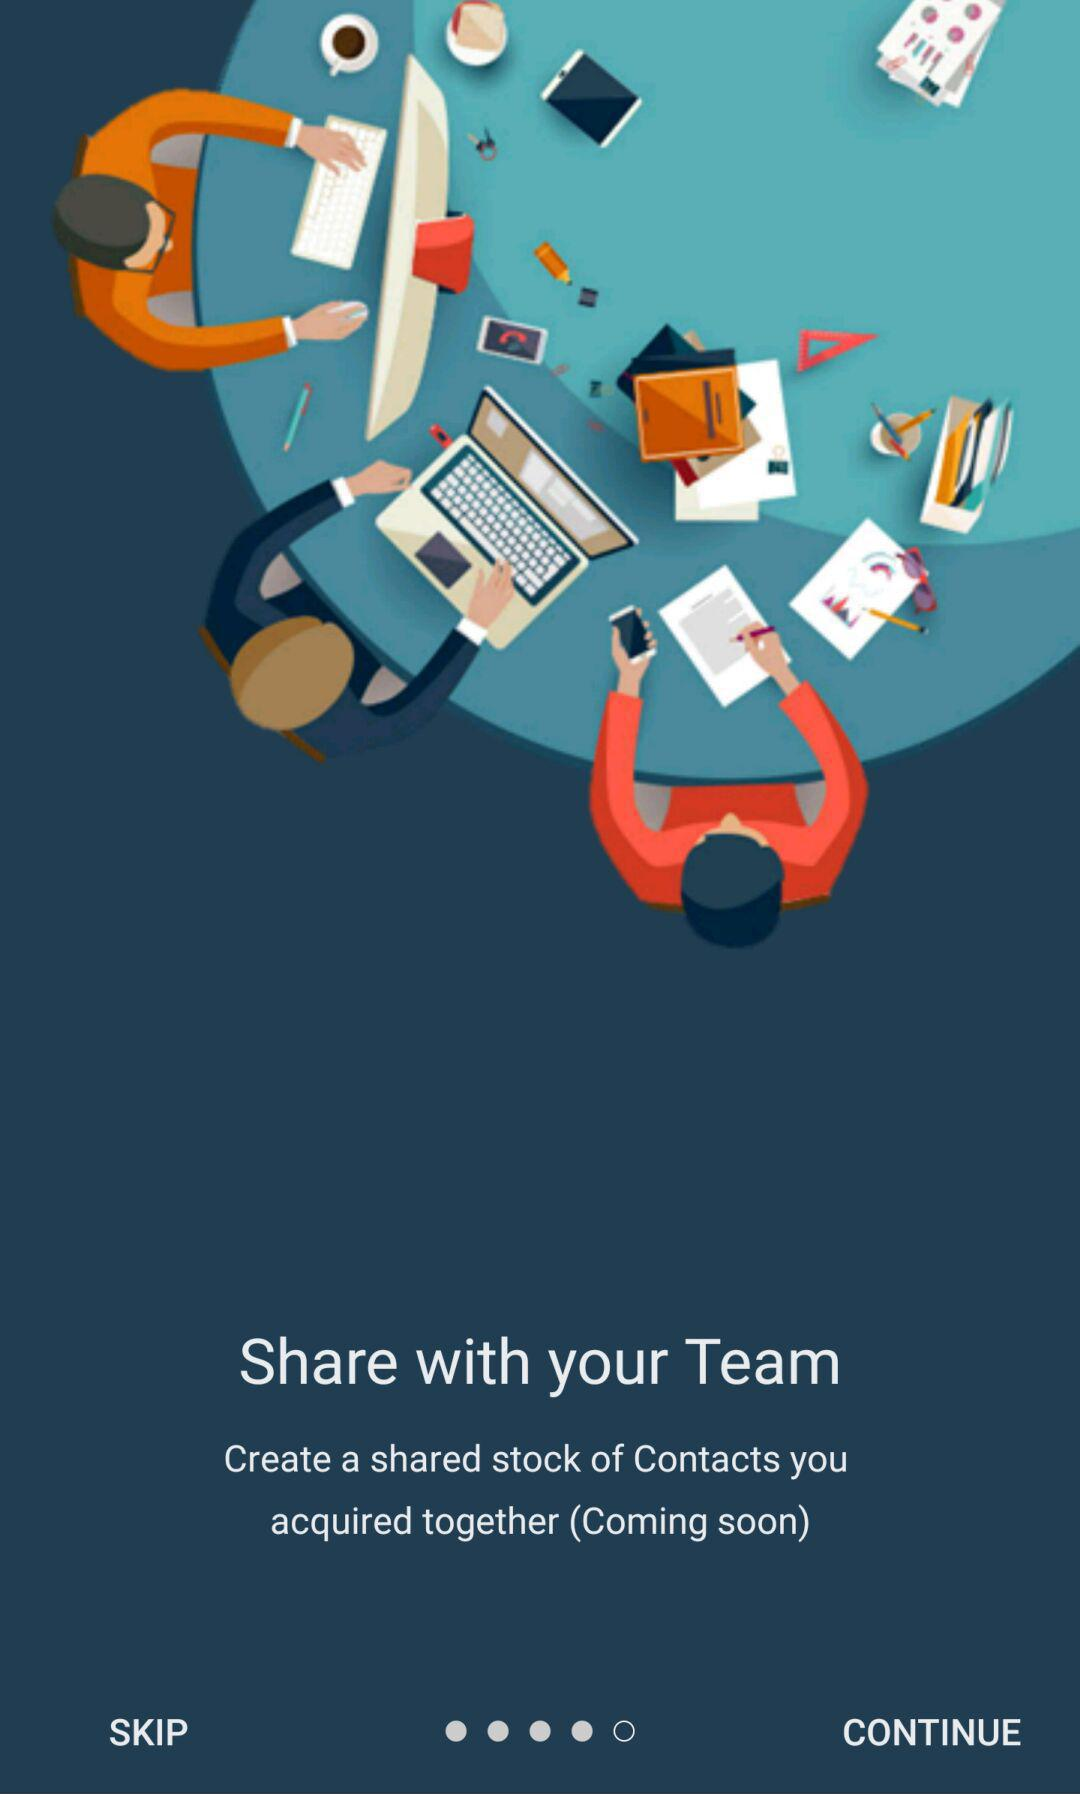Image: (49, 1, 1080, 950)
PageIndicator: (445, 1718, 635, 1743)
Text: (225, 1443, 848, 1544), (240, 1337, 839, 1399), (843, 1718, 1021, 1747), (110, 1718, 190, 1747)
